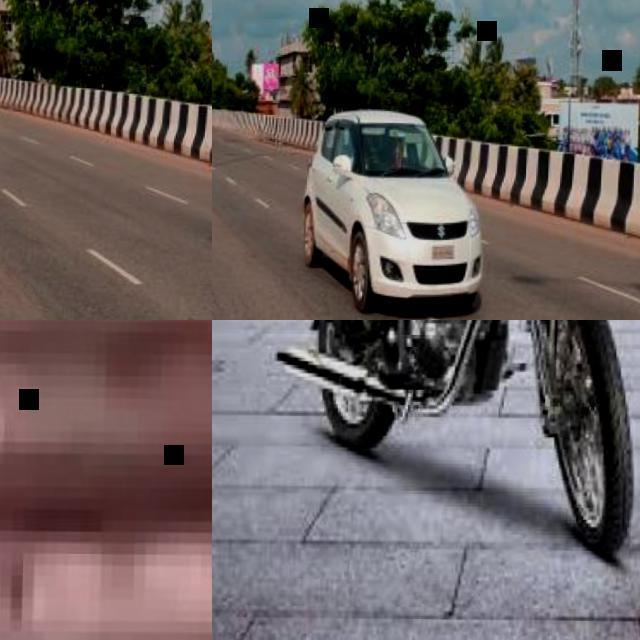car: (375, 323, 637, 555), (303, 106, 482, 310)
